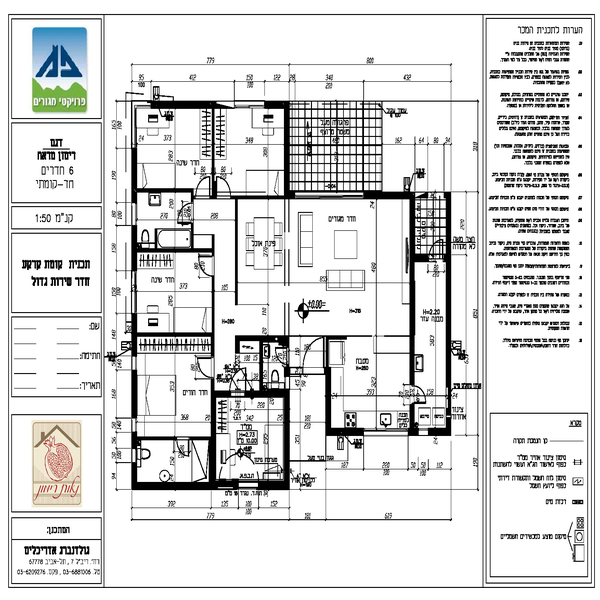door: (303, 334, 324, 374), (194, 353, 217, 384), (197, 254, 217, 280), (409, 379, 429, 405), (214, 174, 232, 198), (193, 175, 212, 197), (274, 347, 290, 366)
wall: (446, 193, 457, 436), (407, 196, 416, 381), (233, 193, 241, 309), (132, 480, 202, 492), (284, 100, 292, 194), (210, 104, 218, 197), (210, 398, 218, 488), (284, 397, 291, 491), (128, 146, 139, 203), (131, 330, 212, 337), (127, 223, 138, 274), (136, 184, 191, 194), (127, 316, 141, 355), (151, 101, 219, 109), (213, 390, 287, 397), (367, 188, 411, 199), (127, 372, 137, 420), (325, 369, 332, 435), (223, 194, 284, 201), (330, 427, 362, 439)
window: (229, 98, 267, 110)
